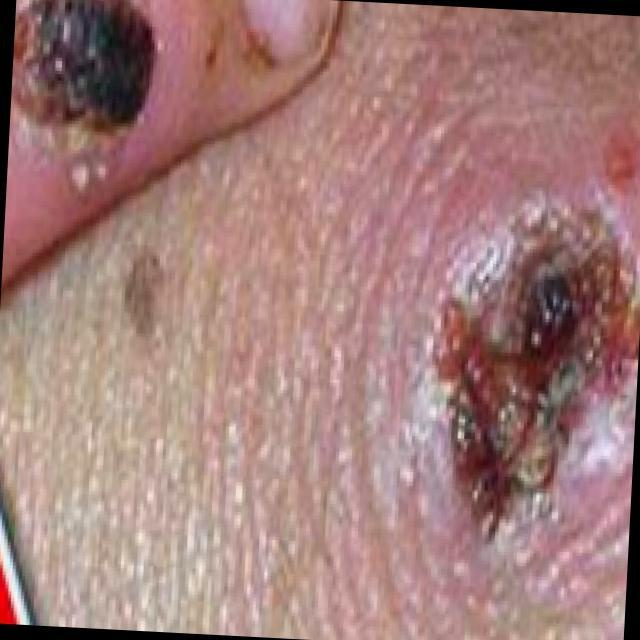Eczema: (432, 183, 640, 511), (0, 0, 172, 173)
